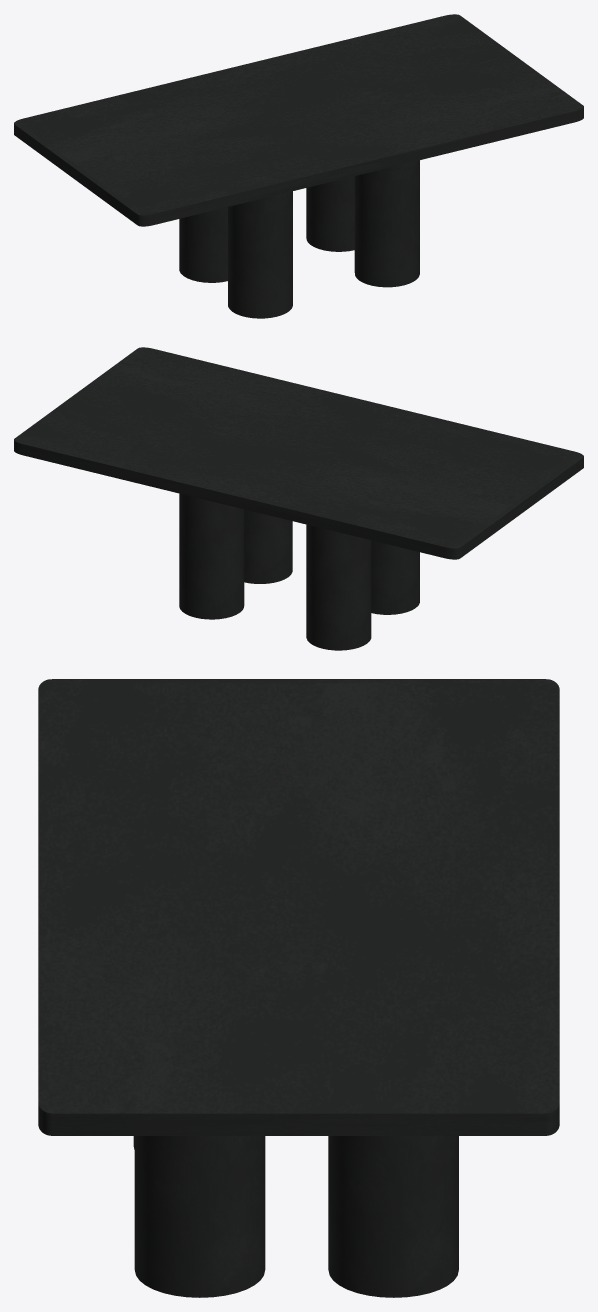
The model's file is darknight_softrecta_standard_grove.glb.
3 renders of one model, top to bottom at view 1: azimuth 30°, elevation 25°; view 2: azimuth 150°, elevation 25°; view 3: azimuth 270°, elevation 25°, orthographic. The views are drawn at different scales.
Visible parts, largest first — view 1: darknight_softrectastandard_grove; view 2: darknight_softrectastandard_grove; view 3: darknight_softrectastandard_grove.
Boxes of the visible parts, bbox=[...] form: darknight_softrectastandard_grove: bbox=[14, 14, 583, 318]; darknight_softrectastandard_grove: bbox=[14, 347, 583, 650]; darknight_softrectastandard_grove: bbox=[38, 679, 559, 1297].
Size of the model in its own units: 7.5 by 2.51 by 3.8.
Materials: 1 (1 with a texture image).
